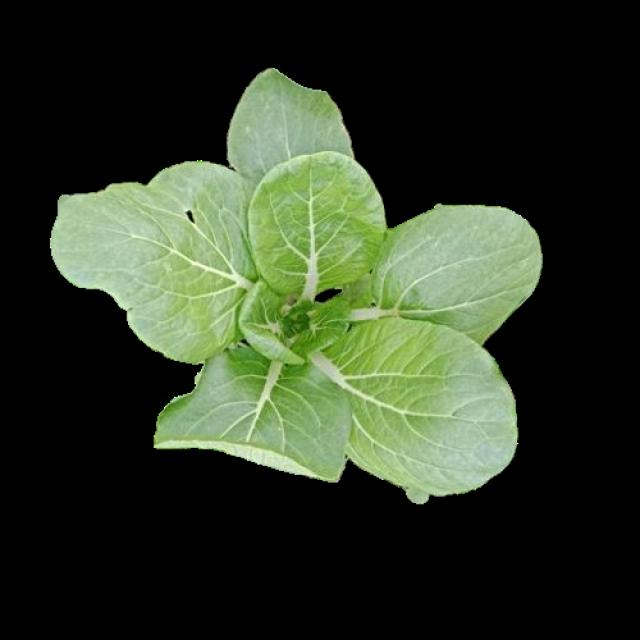mature: (47, 70, 529, 497)
unhealthy: (55, 156, 246, 362), (228, 70, 354, 176)
